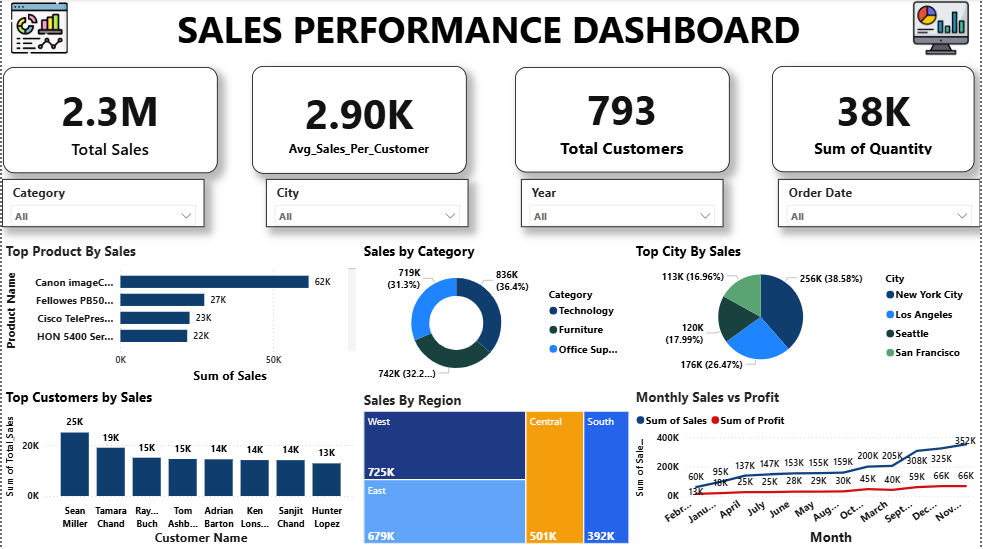

The page's visual inventory and layout, read from the dashboard file:
{"tool":"powerbi","page":{"name":"Sales wise Analysis","canvas":[1280,720],"ordinal":0},"visuals":[{"type":"columnChart","title":"Top Customers by Sales","fields":{"Category":["Sheet1.Customer Name"],"Y":["Sum(Sheet1.Total_Sales)"]},"box":[0,508.3,468,211.7],"z":0},{"type":"treemap","title":"Sales By Region","fields":{"Group":["Region.Region"],"Values":["Sum(Region.Total_Sales)"]},"box":[468,511.2,357.1,205.9],"z":1000},{"type":"pieChart","title":"Top City By Sales","fields":{"Category":["City.City"],"Y":["Sum(City.Total_Sales)"]},"box":[825.1,316.8,447.8,175.7],"z":2000},{"type":"barChart","title":"Top Product By Sales","fields":{"Category":["Superstore_Analysis.Product Name"],"Y":["Sum(Superstore_Analysis.Sales)"]},"box":[0,316.8,468,191.5],"z":3000},{"type":"lineChart","title":"Monthly Sales vs Profit","fields":{"Y":["Sum(Superstore_Analysis.Sales)","Sum(Superstore_Analysis.Profit)"],"Category":["Superstore_Analysis.Month"]},"box":[825.1,508.3,455,211.7],"z":4000},{"type":"donutChart","title":"Sales by Category","fields":{"Category":["Category.Category"],"Y":["Sum(Category.Total_Sales)"]},"box":[468,316.8,357.1,191.5],"z":5000},{"type":"cardVisual","fields":{"Data":["Sum(Superstore_Analysis.Sales)"]},"box":[1.7,89,280.5,139.4],"z":6000},{"type":"cardVisual","fields":{"Data":["Superstore_Analysis.Quantity_Per_Customer"]},"box":[326.9,87.8,280.8,141.1],"z":7000},{"type":"cardVisual","fields":{"Data":["Count(Superstore_Analysis.Customer ID)"]},"box":[671.9,89,280.5,137.7],"z":8000},{"type":"cardVisual","fields":{"Data":["Sum(Superstore_Analysis.Quantity)"]},"box":[1007.9,87.3,265.4,139.4],"z":9000},{"type":"textbox","box":[1.7,0,1271.6,75.6],"z":10000},{"type":"image","box":[1177.9,0,102.1,75.7],"z":11000},{"type":"image","box":[0,0,98.6,75.7],"z":12000},{"type":"slicer","fields":{"Values":["City.City"]},"box":[345.6,236.2,265,63.4],"z":13000},{"type":"slicer","fields":{"Values":["Superstore_Analysis.Year"]},"box":[679.7,236.2,265,63.4],"z":14000},{"type":"slicer","fields":{"Values":["Superstore_Analysis.Order Date"]},"box":[1015.2,236.2,265,63.4],"z":15000},{"type":"slicer","fields":{"Values":["Category.Category"]},"box":[0,236.2,265,63.4],"z":16000}]}

Visuals, with their boxes in screenshot pixels (x1, y1, x2, y2), scaled from the page's 1280x720 canvas onto the 983x549 screenshot:
"Top Customers by Sales" columnChart: 0 388 359 548
"Sales By Region" treemap: 359 390 634 547
"Top City By Sales" pieChart: 634 242 978 376
"Top Product By Sales" barChart: 0 242 359 388
"Monthly Sales vs Profit" lineChart: 634 388 982 548
"Sales by Category" donutChart: 359 242 634 388
cardVisual - Sum(Superstore_Analysis.Sales): 1 68 217 174
cardVisual - Superstore_Analysis.Quantity_Per_Customer: 251 67 467 175
cardVisual - Count(Superstore_Analysis.Customer ID): 516 68 731 173
cardVisual - Sum(Superstore_Analysis.Quantity): 774 67 978 173
textbox: 1 0 978 58
image: 905 0 982 58
image: 0 0 76 58
slicer - City.City: 265 180 469 228
slicer - Superstore_Analysis.Year: 522 180 726 228
slicer - Superstore_Analysis.Order Date: 780 180 982 228
slicer - Category.Category: 0 180 204 228
